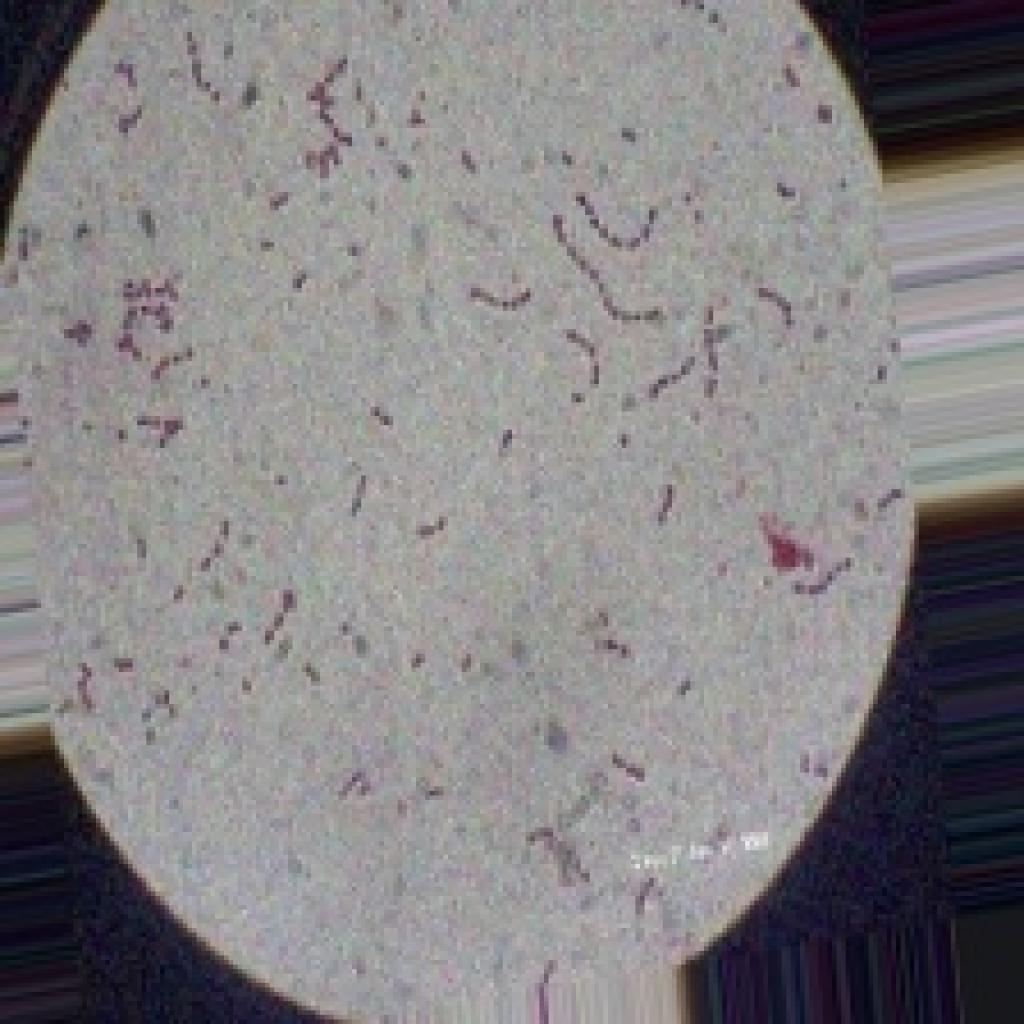Rodbacteria: (0, 0, 919, 1019)
